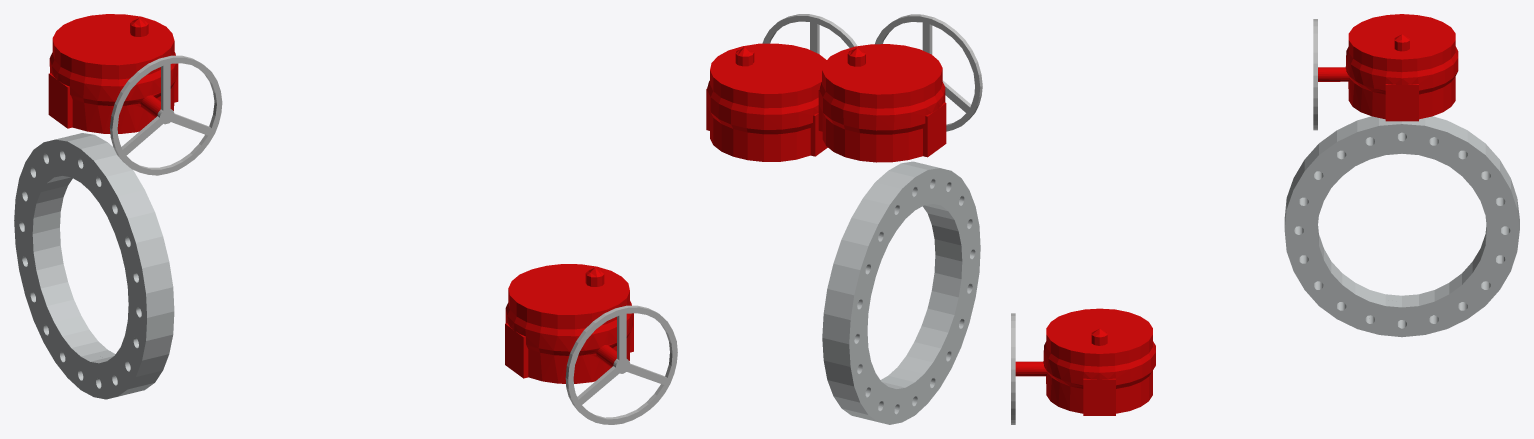
3 views of the same model, side by side, from view 1: azimuth 30°, elevation 25°; view 2: azimuth 150°, elevation 25°; view 3: azimuth 270°, elevation 25° (orthographic). The views are drawn at different scales.
Size of the model in its own units: 1.11 by 0.9521 by 1.38.
